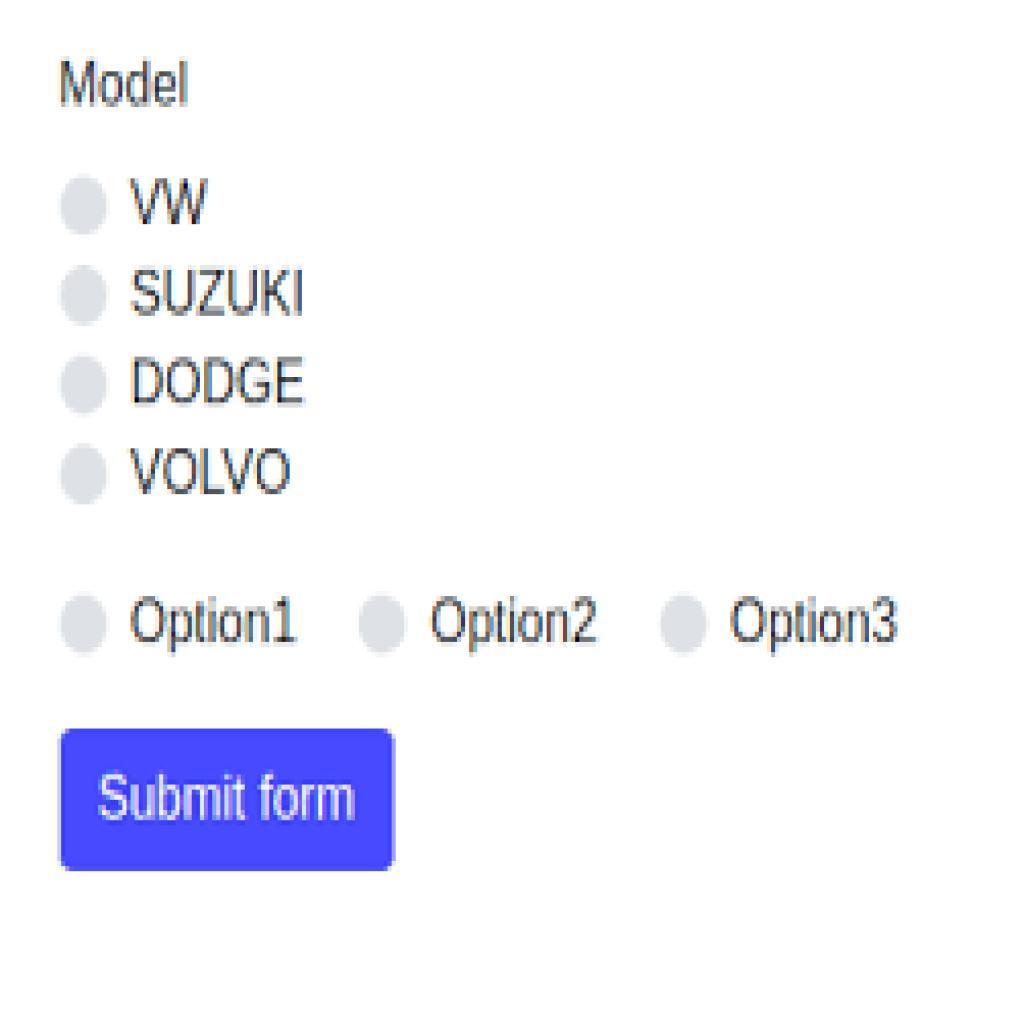button: (62, 727, 393, 872)
radio: (55, 171, 119, 241), (351, 591, 416, 659), (54, 591, 118, 659), (655, 589, 713, 658), (56, 267, 117, 328), (55, 444, 112, 508), (57, 357, 110, 422)
